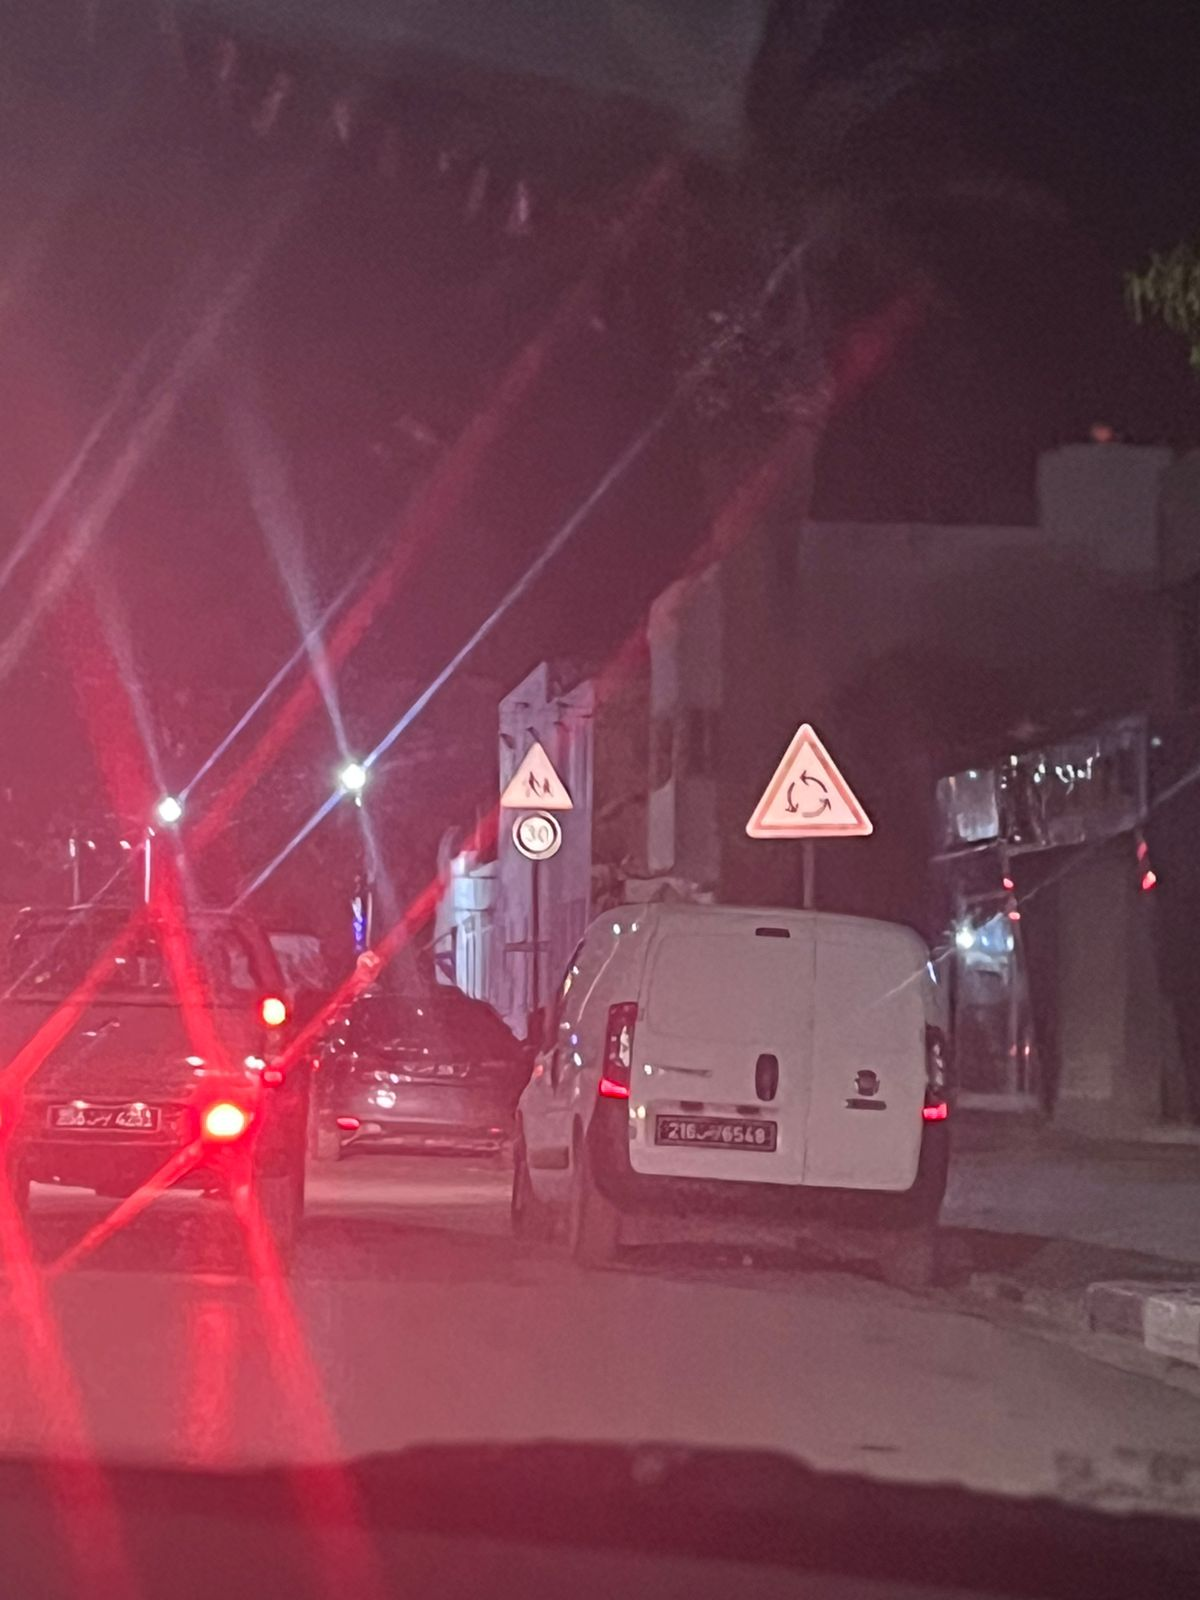SpeedLimit30: (511, 810, 562, 860)
